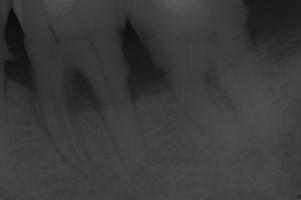Endo-Periodontal Lesion: (64, 66, 98, 114)
